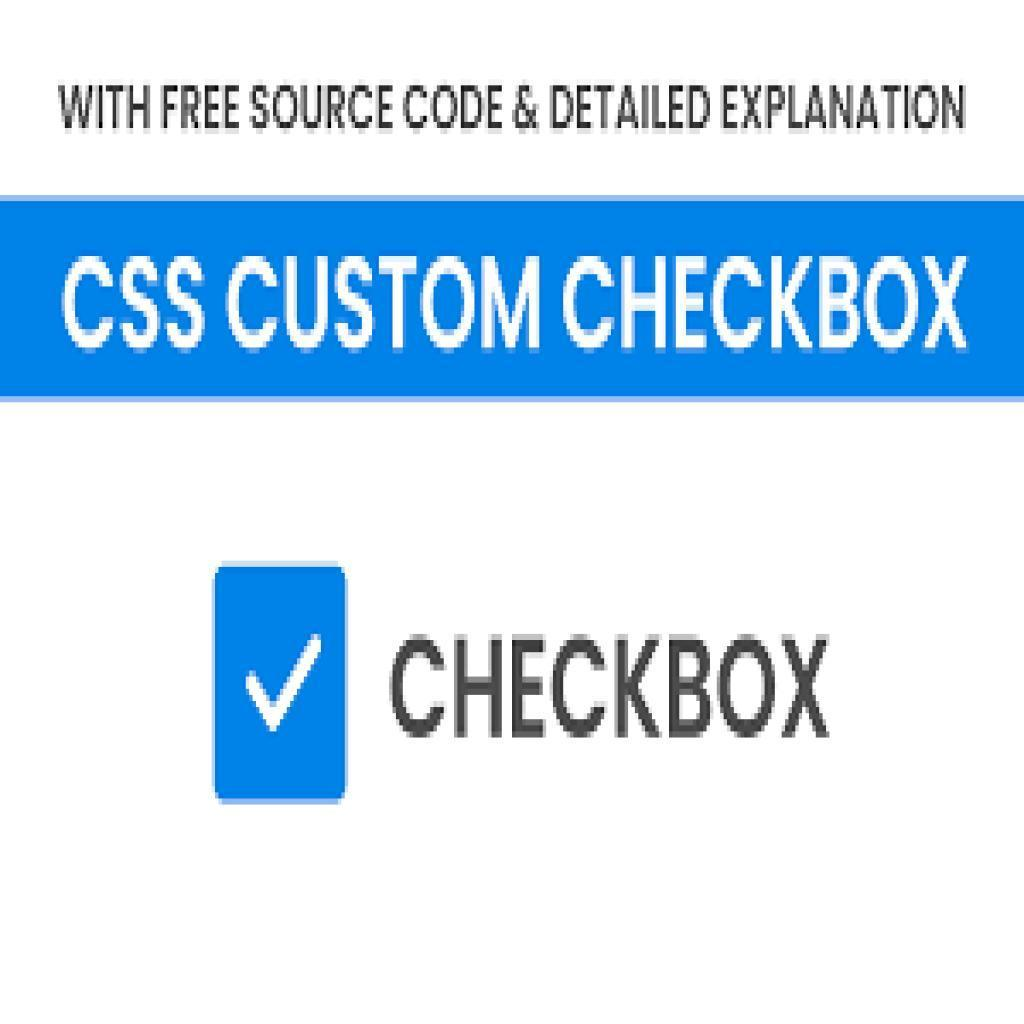checkbox: (216, 566, 347, 807)
label: (388, 635, 838, 742)
